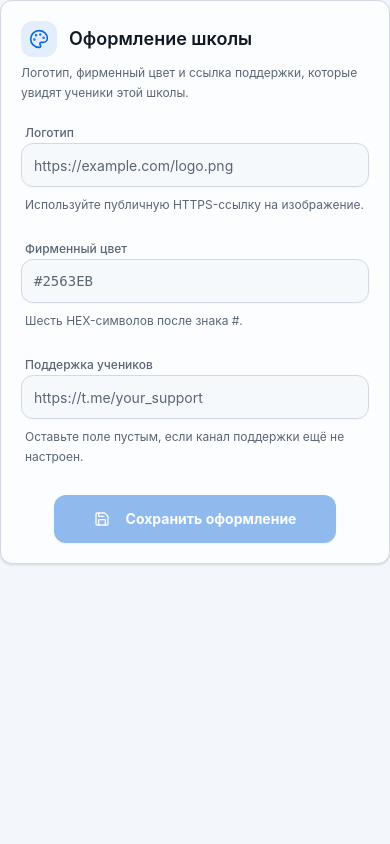
Test: SchoolBrandingCard › previews only valid branding and saves normalized values
Type "https://cdn.example.com/logo.png" into the field labelled "Логотип" at (195,165), box left=21, top=143, right=369, bottom=187
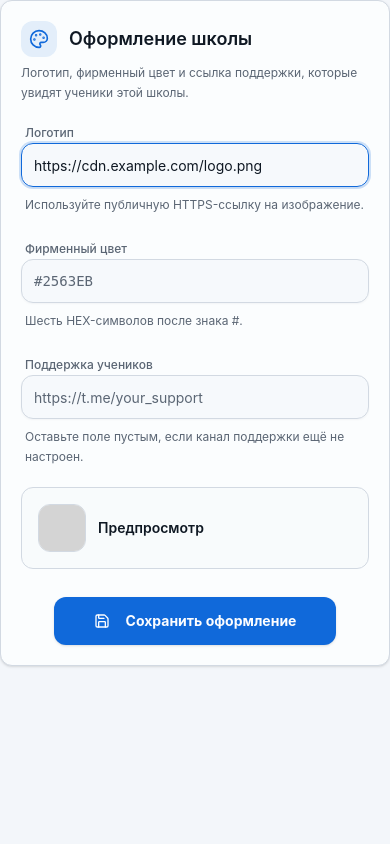
Type "#a1b2c3" into the field labelled "Фирменный цвет" at (195,281), box left=21, top=259, right=369, bottom=303
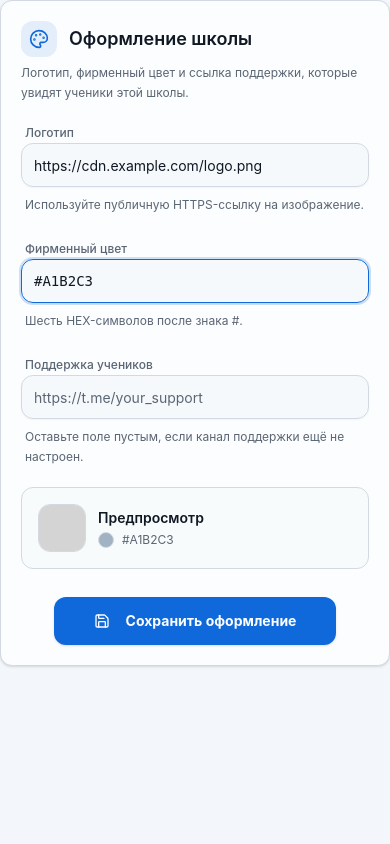
Type "https://t.me/school_support" into the field labelled "Поддержка учеников" at (195,397), box left=21, top=375, right=369, bottom=419
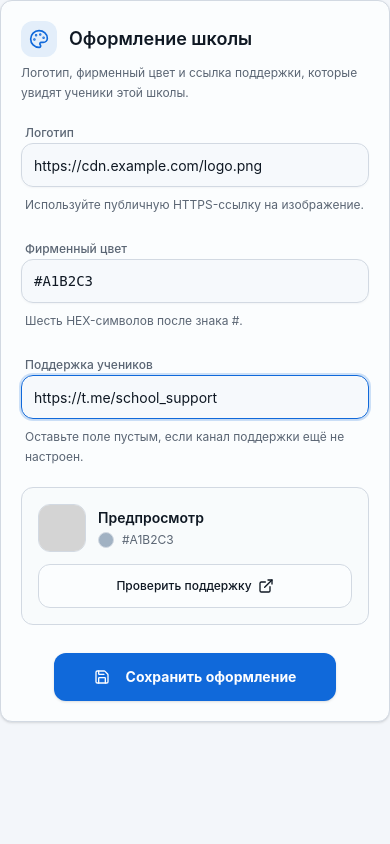
Click the button "Сохранить оформление" at (195,677), box left=54, top=653, right=336, bottom=701
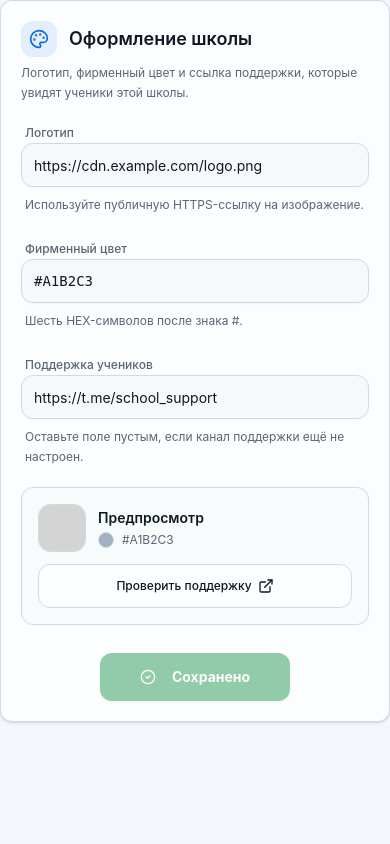
Check: the button "Сохранено" is disabled, box left=100, top=653, right=290, bottom=701
